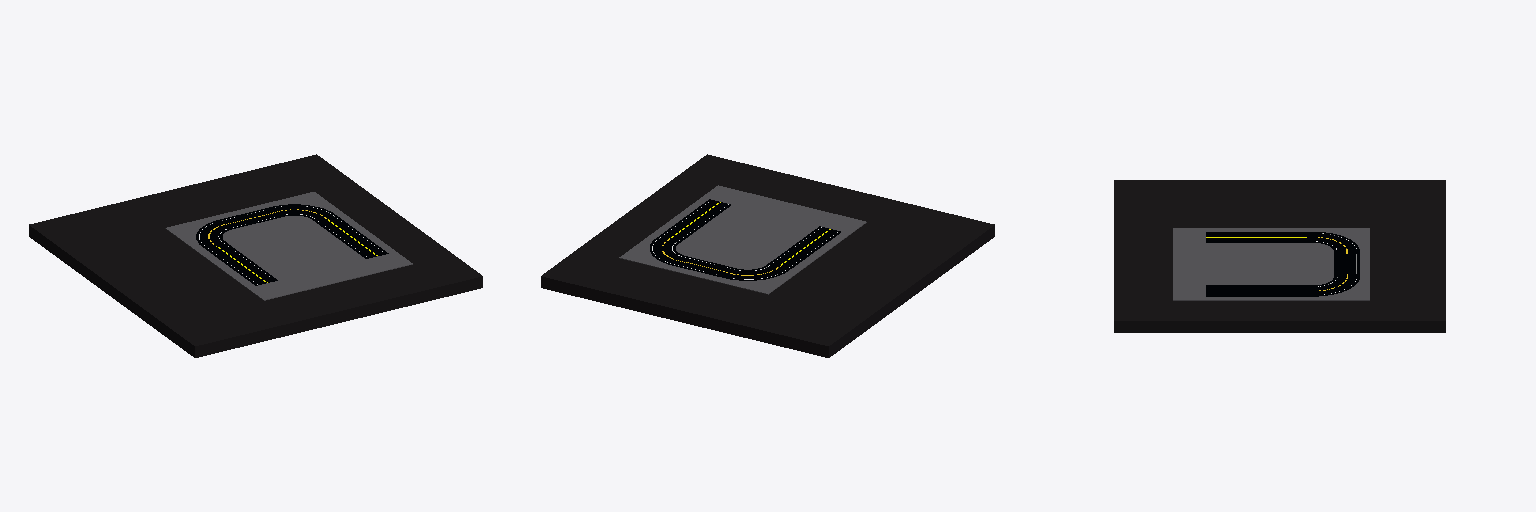
3 renders of one model, left to right at view 1: azimuth 30°, elevation 25°; view 2: azimuth 150°, elevation 25°; view 3: azimuth 270°, elevation 25°, orthographic.
Visible parts, largest first — view 1: Baseplate1, Part11, Part7, Part2; view 2: Baseplate1, Part11, Part7, Part2; view 3: Baseplate1, Part11, Part7, Part2.
Part boxes in pixels (x1,y1,x2,y2): Baseplate1: (29, 154, 482, 357); Part11: (165, 192, 412, 300); Part7: (316, 217, 388, 258); Part2: (206, 244, 277, 285); Baseplate1: (541, 154, 994, 357); Part11: (619, 185, 866, 294); Part7: (660, 199, 730, 241); Part2: (770, 226, 840, 268); Baseplate1: (1114, 180, 1445, 332); Part11: (1173, 228, 1369, 300); Part7: (1206, 285, 1306, 296); Part2: (1206, 232, 1306, 242).
Bounding box in the file's own units: 512 × 21.22 × 512.
Materials: 6 (1 with a texture image).